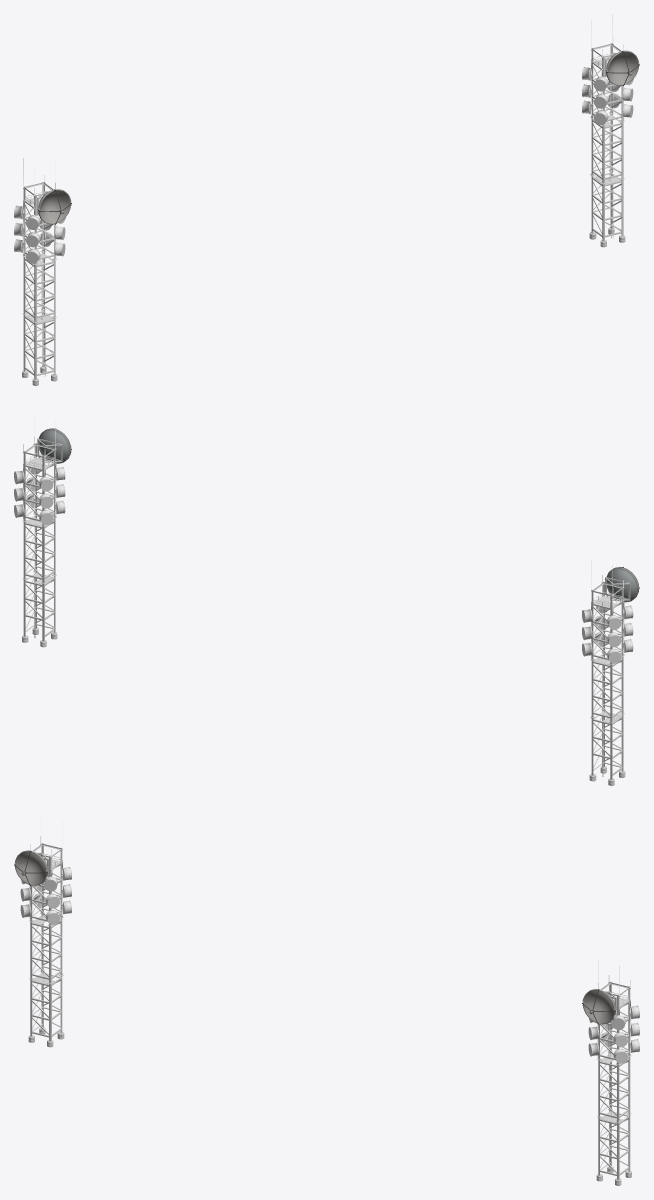
The model's file is RadioTowers.fbx.
3 renders of one model, top to bottom at view 1: azimuth 30°, elevation 25°; view 2: azimuth 150°, elevation 25°; view 3: azimuth 330°, elevation 25°, orthographic.
Visible parts, largest first — view 1: Cylinder.054, Cylinder.058, Cube.257, Cube.256, Cube.250, Cube.249, Sphere.002, Sphere.003, Cube.258, Cube.251; view 2: Cylinder.058, Cylinder.054, Cube.250, Cube.257, Cube.249, Cube.256, Cube.258, Cube.251, Sphere.002, Sphere.003; view 3: Cylinder.054, Cylinder.058, Cube.250, Cube.249, Cube.256, Cube.257, Sphere.003, Sphere.002, Cube.251, Cube.258.
Boxes of the visible parts, x1,y1,x2,y2 form: Cylinder.054: (14, 205, 65, 263); Cylinder.058: (582, 67, 633, 124); Cube.257: (590, 113, 624, 184); Cube.256: (590, 171, 624, 241); Cube.250: (22, 252, 56, 322); Cube.249: (22, 310, 56, 380); Sphere.002: (38, 189, 71, 224); Sphere.003: (606, 50, 639, 85); Cube.258: (590, 56, 624, 126); Cube.251: (22, 194, 56, 264); Cylinder.058: (14, 463, 65, 524); Cylinder.054: (582, 601, 633, 663); Cube.250: (590, 652, 624, 722); Cube.257: (22, 513, 56, 584); Cube.249: (590, 710, 624, 780); Cube.256: (22, 571, 56, 641); Cube.258: (22, 455, 56, 526); Cube.251: (590, 594, 624, 664); Sphere.002: (606, 567, 639, 602); Sphere.003: (38, 428, 71, 463); Cylinder.054: (20, 867, 71, 924); Cylinder.058: (588, 1005, 639, 1063); Cube.250: (29, 913, 63, 984); Cube.249: (29, 971, 63, 1041); Cube.256: (597, 1110, 631, 1180); Cube.257: (597, 1052, 631, 1122); Sphere.003: (582, 989, 615, 1024); Sphere.002: (14, 850, 47, 885); Cube.251: (29, 856, 63, 926); Cube.258: (597, 995, 631, 1064).
Size of the model in its own units: 7526 by 2595 by 733.
